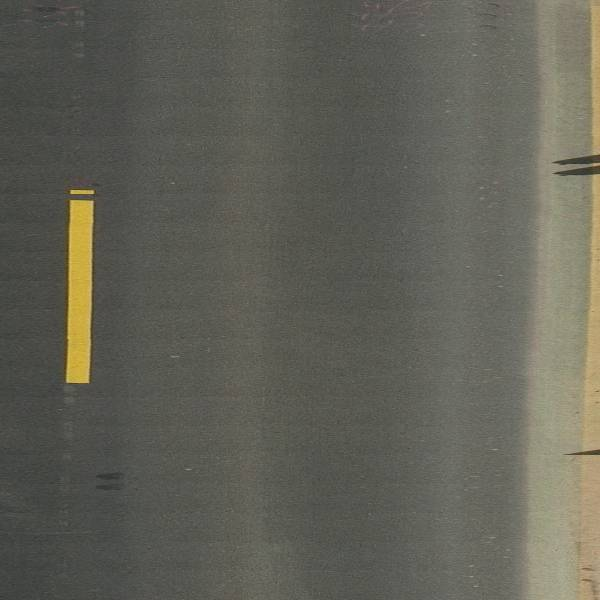road_damage: (93, 470, 131, 494)
